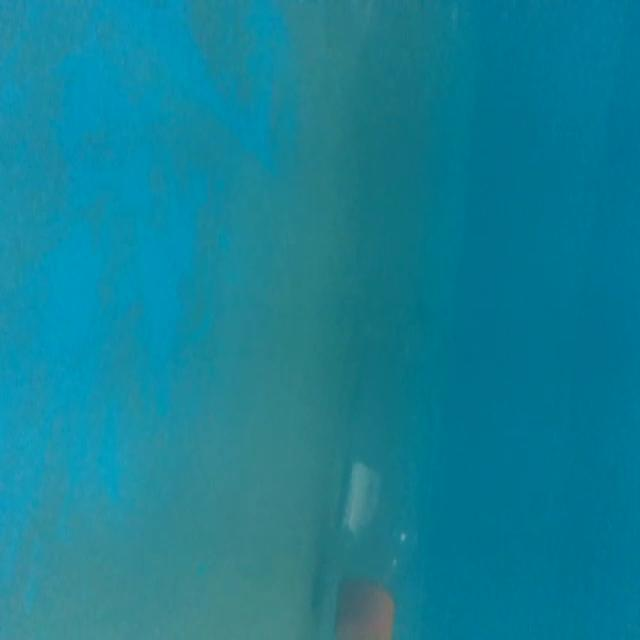plastic bottle: (321, 294, 456, 640)
